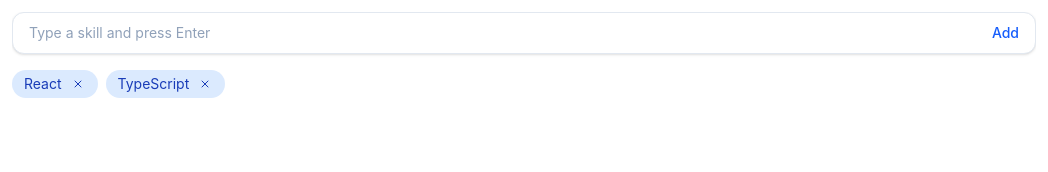
Test: SkillsSection › removes a skill
Expected: the text "React" is shown, [12,70,98,98]
Click the button named "remove react": (78, 84) [70,76,86,92]
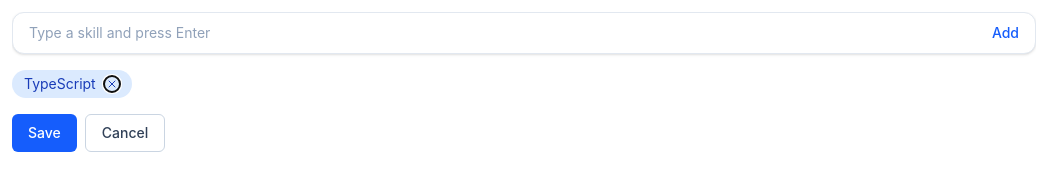
Now the text "React" is gone
Now the text "TypeScript" is shown, box [12,70,132,98]
